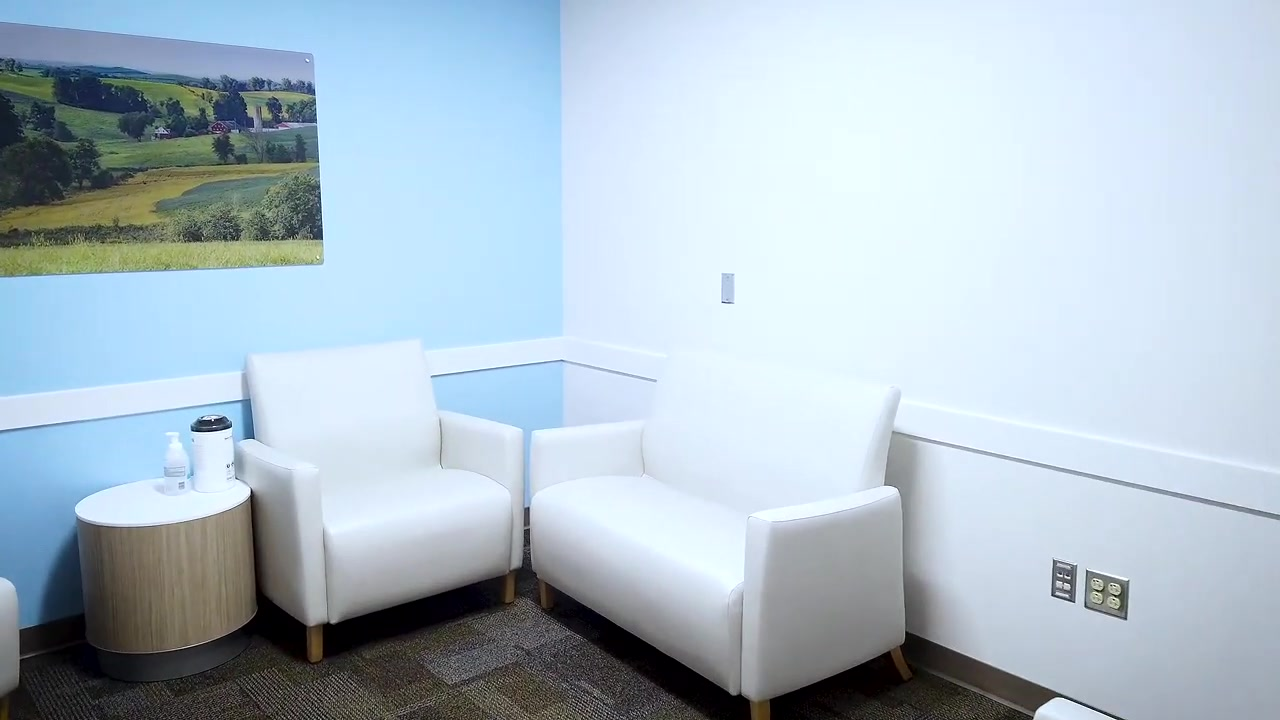dispenser: (162, 426, 193, 495)
sofa: (527, 350, 913, 720), (226, 340, 525, 667), (1, 576, 26, 700)
table: (73, 475, 260, 685)
